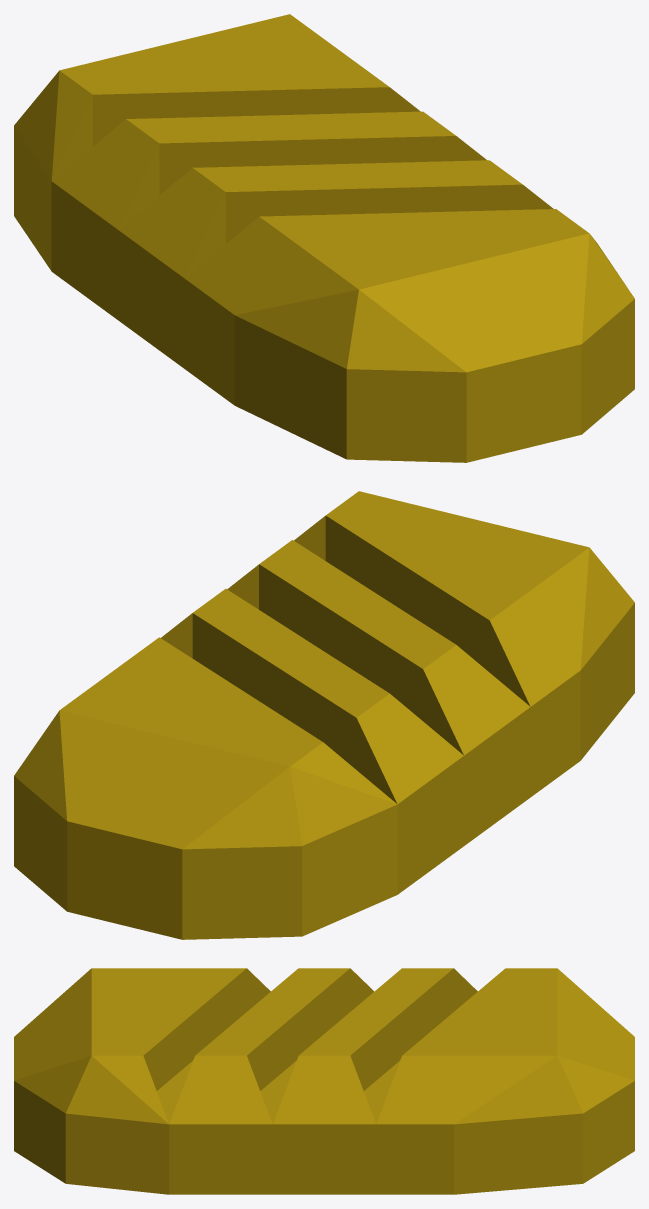
File: inv_burnt_bread.obj
3 renders of one model, top to bottom at view 1: azimuth 30°, elevation 25°; view 2: azimuth 150°, elevation 25°; view 3: azimuth 270°, elevation 25°, orthographic. The views are drawn at different scales.
Bounding box in the file's own units: 0.1875 × 0.0781 × 0.375.
